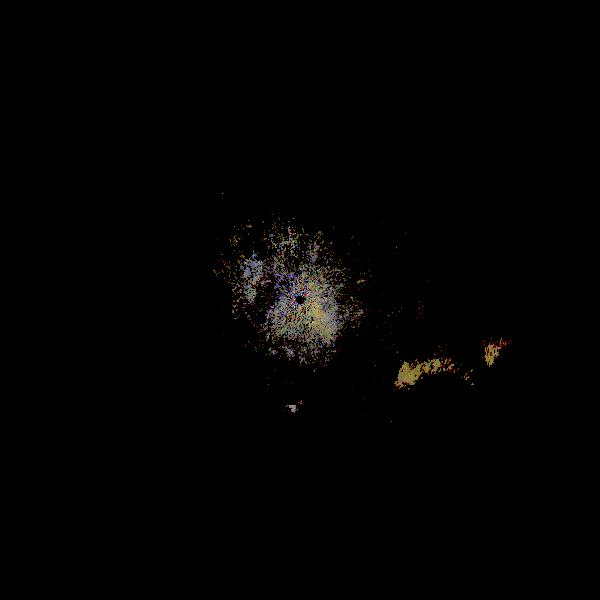roost: (449, 299, 600, 482)
